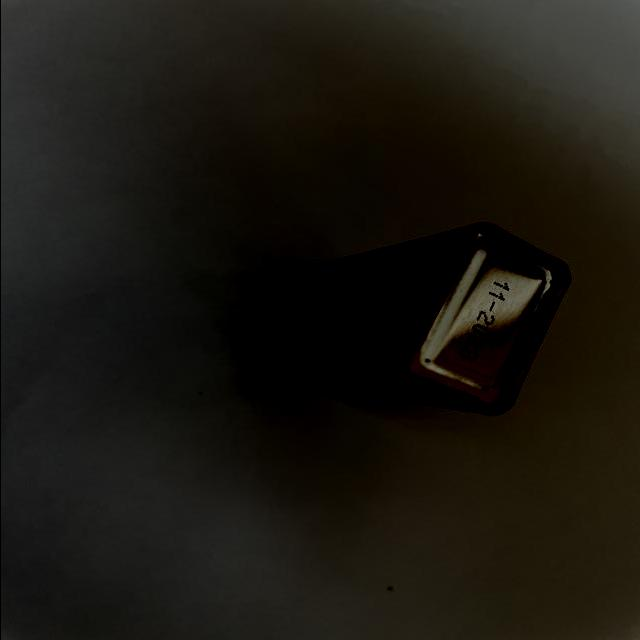9V: (252, 222, 571, 417)
